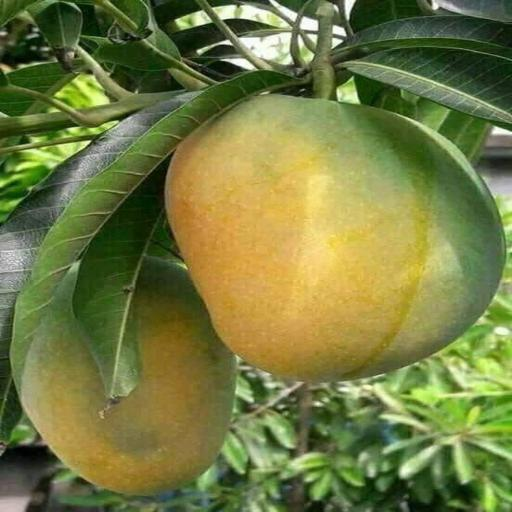mango: (167, 95, 504, 382), (22, 258, 235, 494)
